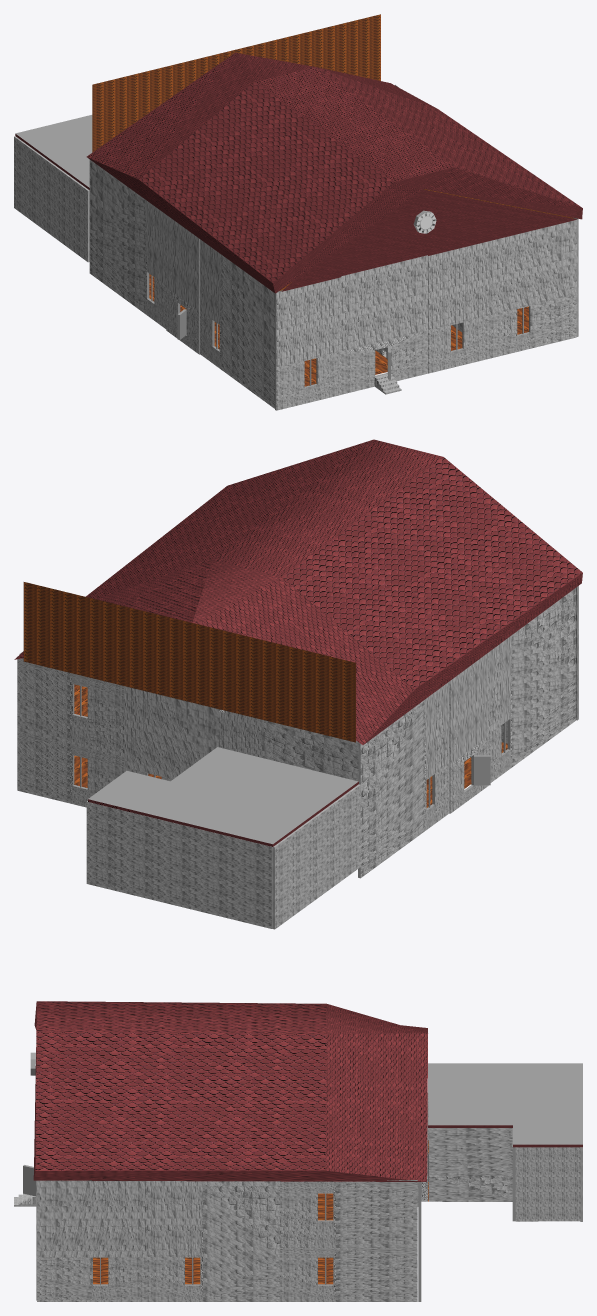
The model's file is workshopv3.fbx.
3 views of the same model, one above another, from view 1: azimuth 30°, elevation 25°; view 2: azimuth 150°, elevation 25°; view 3: azimuth 270°, elevation 25° (orthographic). The views are drawn at different scales.
Visible parts, largest first — view 1: top1; view 2: top1; view 3: top1.
Part boxes in pixels (left/top/right/bottom): top1: left=14, top=14, right=582, bottom=410; top1: left=14, top=439, right=582, bottom=929; top1: left=14, top=1001, right=582, bottom=1301.
Bounding box in the file's own units: 138 × 83.69 × 207.
